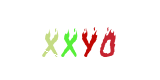0: (59, 0, 139, 80)
X: (27, 0, 107, 80), (29, 0, 109, 80)
Y: (39, 0, 119, 80)
